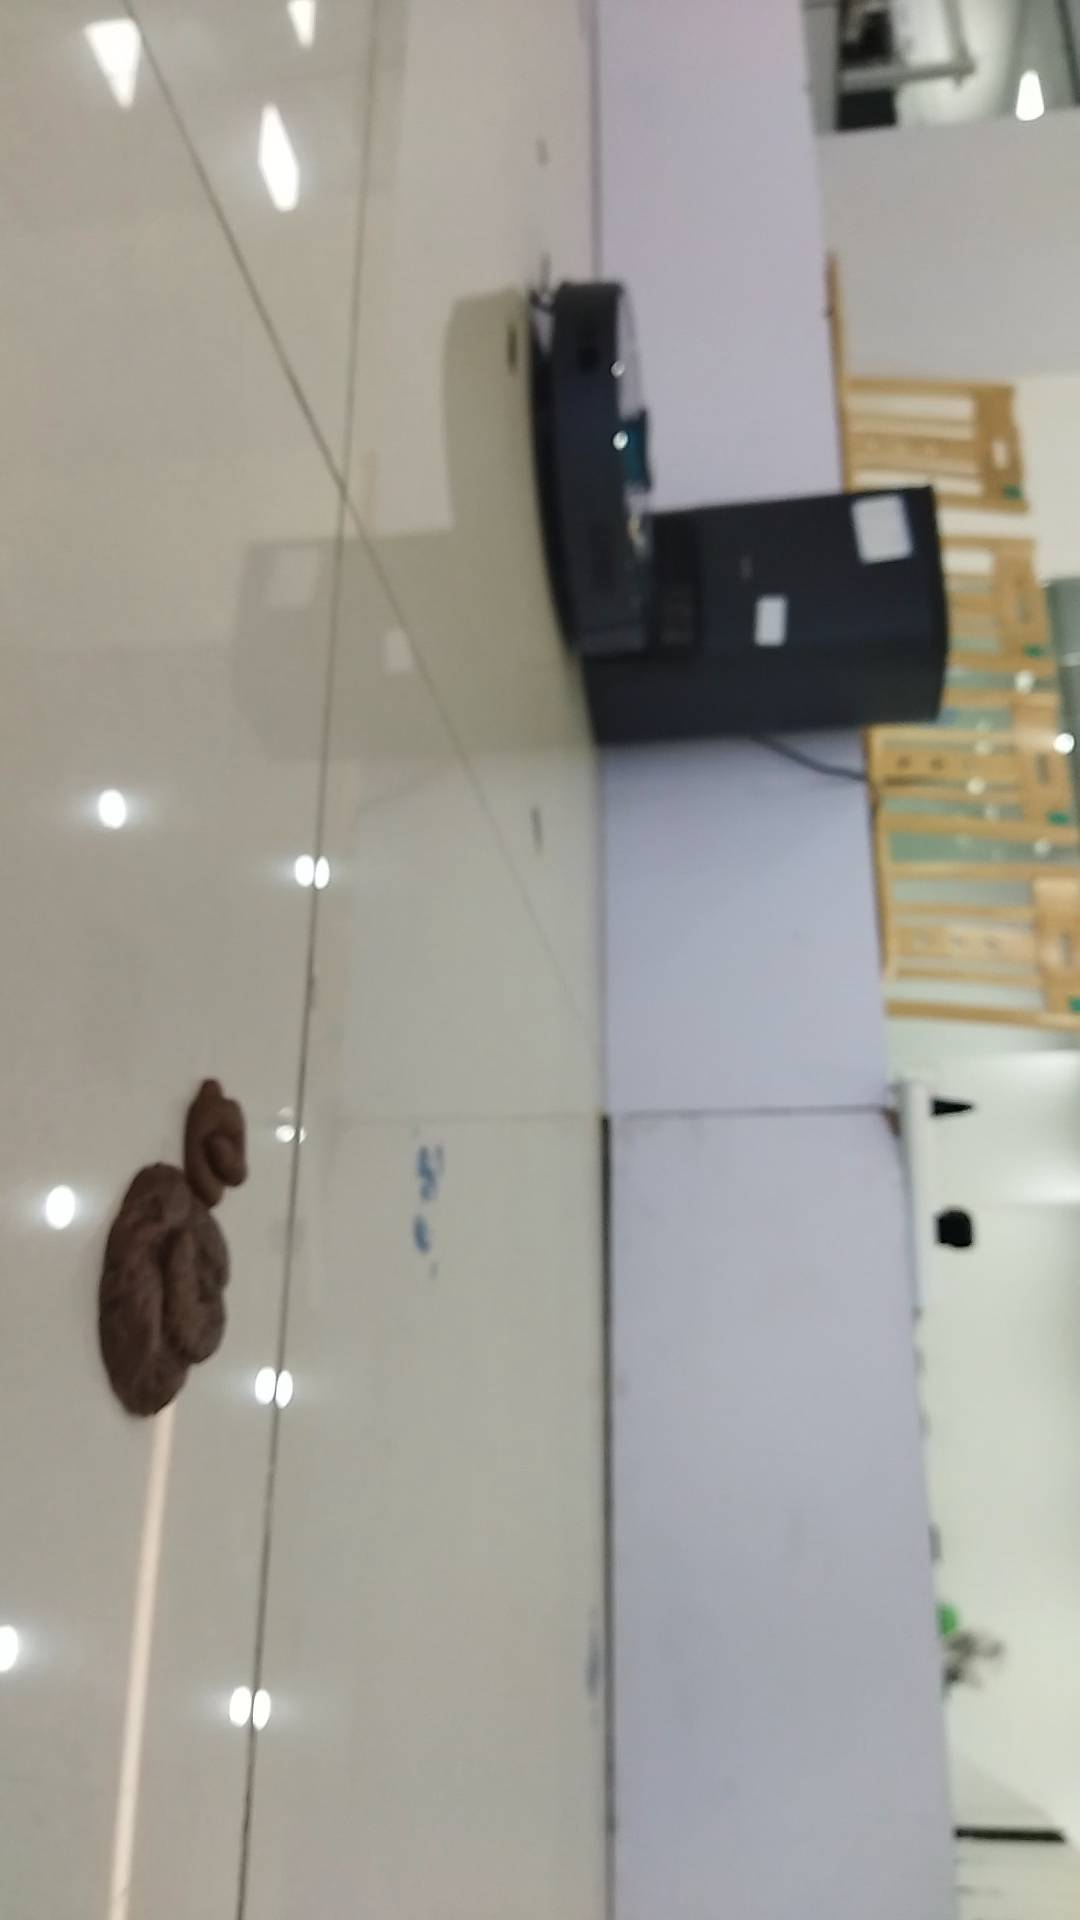dust collecting barrel: (576, 487, 948, 750)
